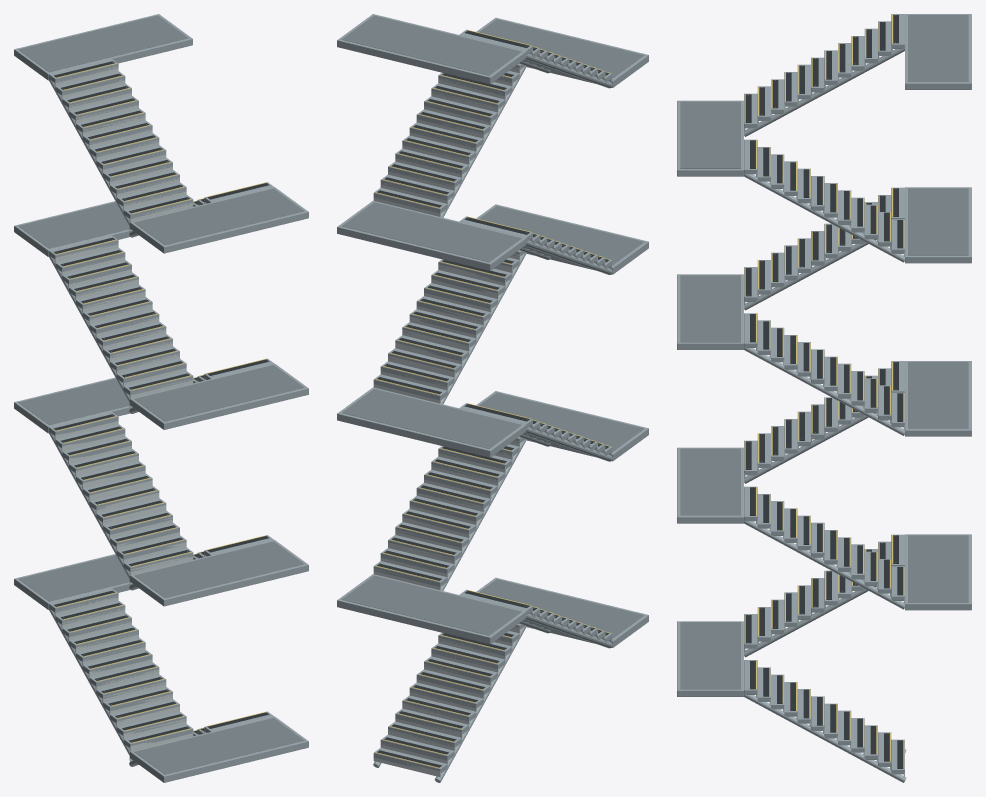
Rendered from TA_VA_Stairs.fbx.
The picture shows the model from 3 angles, left to right: view 1: azimuth 30°, elevation 25°; view 2: azimuth 150°, elevation 25°; view 3: azimuth 270°, elevation 25°; orthographic projection. The views are drawn at different scales.
Parts seen in each view (by area): view 1: TA_VA_Stairs; view 2: TA_VA_Stairs; view 3: TA_VA_Stairs.
Part boxes in pixels (bbox=[...]): TA_VA_Stairs: bbox=[14, 14, 308, 782]; TA_VA_Stairs: bbox=[337, 14, 648, 782]; TA_VA_Stairs: bbox=[677, 14, 971, 782].
Size of the model in its own units: 344 by 1616 by 616.
